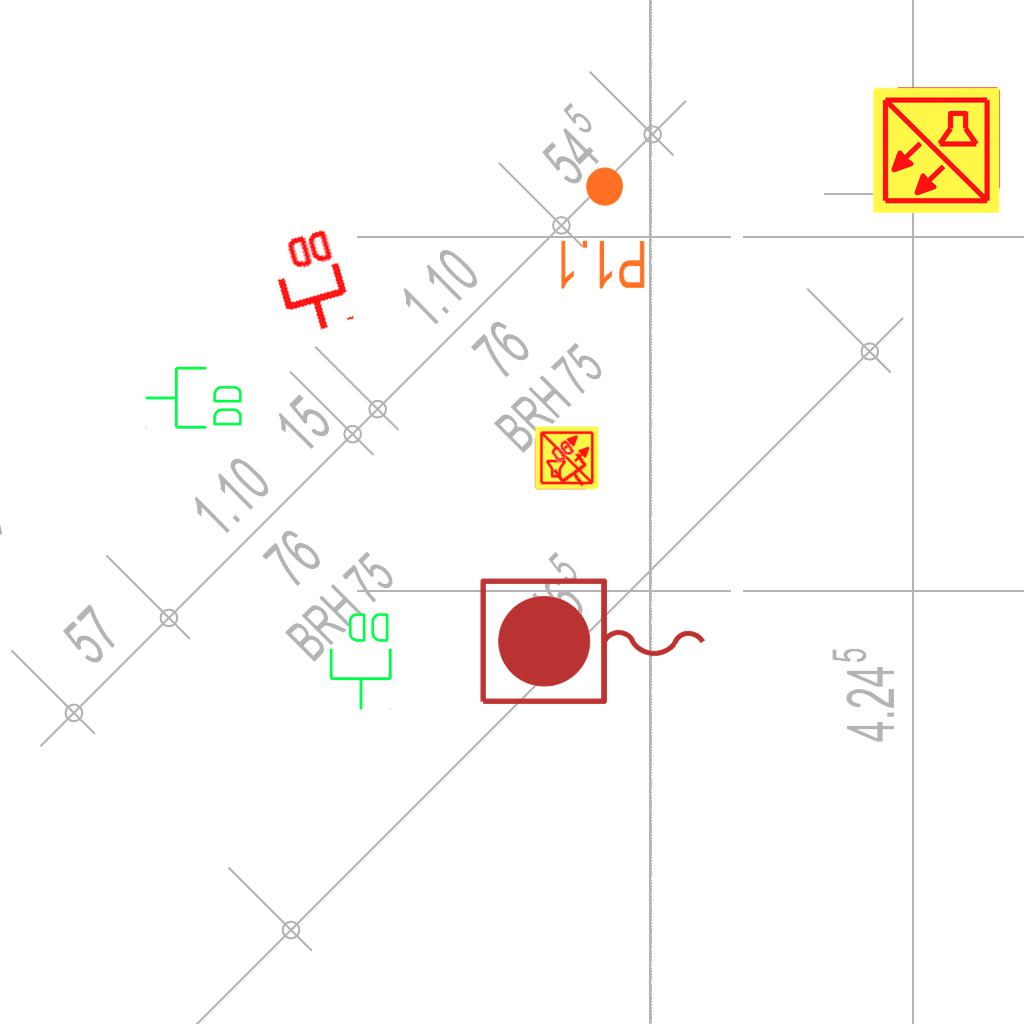Datenanschluss_zweifach: (262, 223, 357, 342), (143, 364, 246, 433), (327, 609, 396, 712), (539, 435, 597, 498)
Downlight_LED_Einbauleuchten_Flur: (555, 164, 648, 292)
OKW_Multisensormelder_(Kombination_optischer_Rauch-Kahlenmonoxid_Waerme-Melder): (870, 84, 1002, 216), (534, 425, 600, 491)
Zugtaster: (472, 571, 716, 715)
